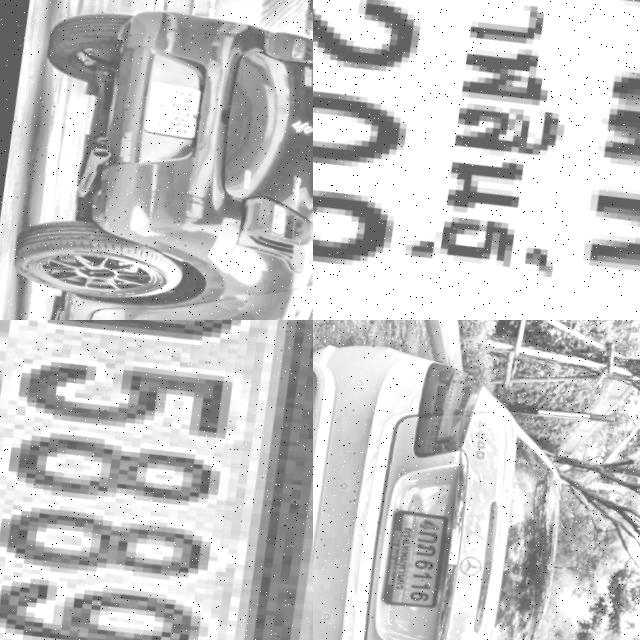license-plate: (313, 0, 640, 320), (0, 320, 313, 640), (369, 509, 452, 620), (132, 77, 212, 149)
